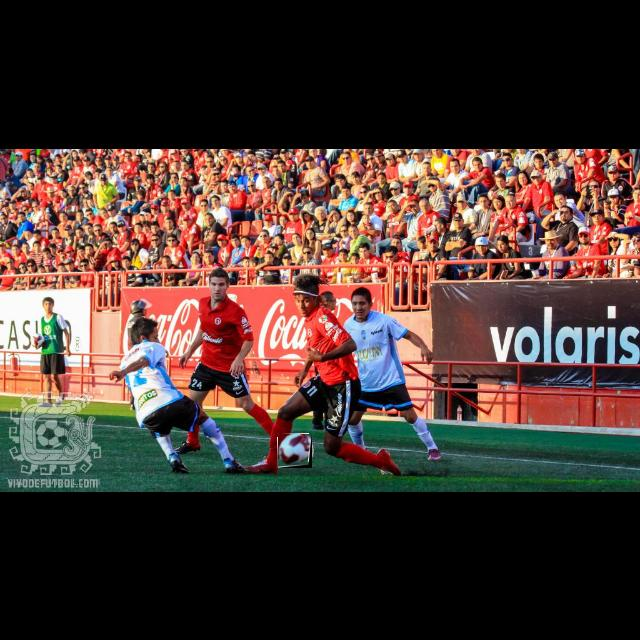Football: (278, 434, 312, 468)
